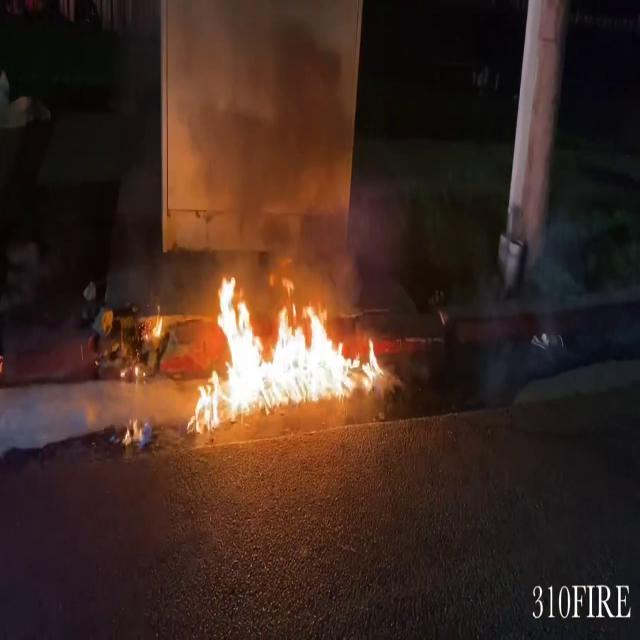Fire: (184, 269, 389, 423)
Smoke: (188, 0, 361, 243)
